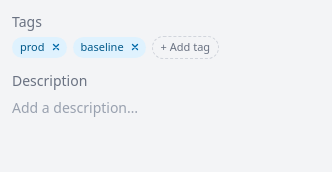
Test: TaskAnnotations › rolls a removal back when the save is refused
What coordinates should you click on to do the following:
click the button named "Remove tag prod"
I would click on:
 (56, 47)
Its box is [48,40,62,54].
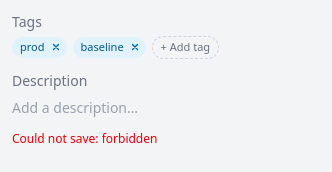
Expected: the text "prod" is shown, [20,39,44,56]
Expected: the message reads "Could not save: forbidden", [12,130,157,146]
